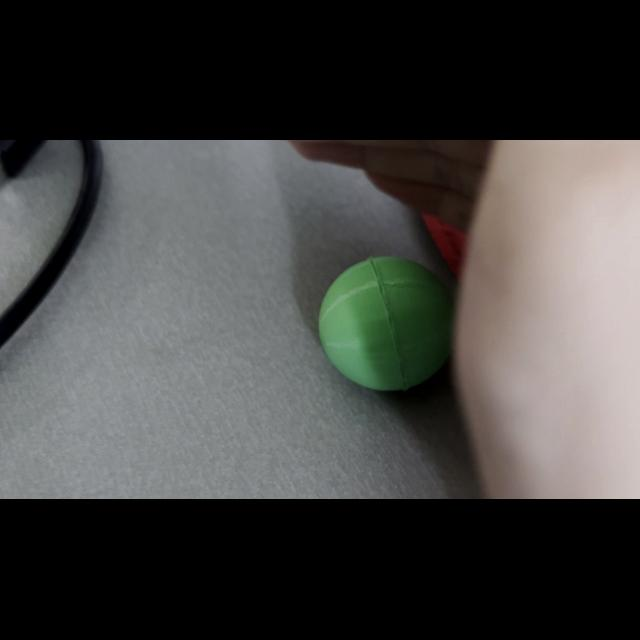objects: (311, 243, 459, 404)
